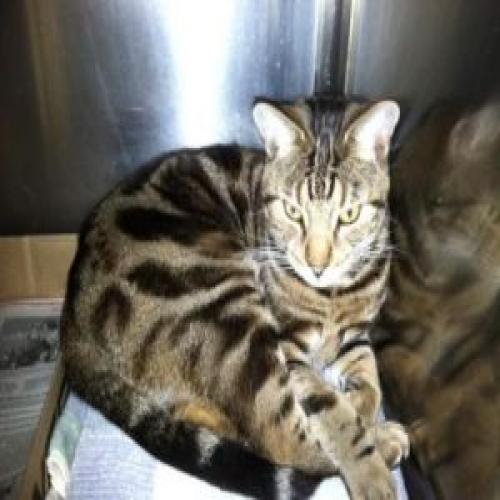bengal: (245, 84, 407, 296)
